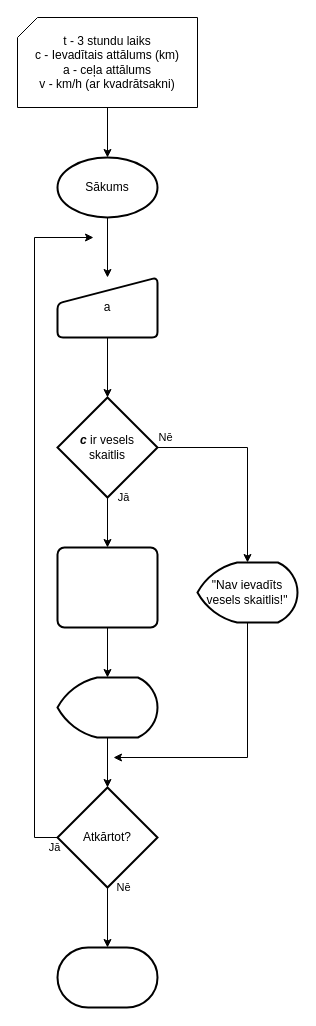
This 316x1026 diagram has some shape labels left out. Here are the shapes that lost their labels. From the top down, the box of each, then its label:
(56, 546, 158, 628): c = kvadrātsakne (a^2/2) v = a/t (km/h)
(56, 676, 158, 738): c, v
(56, 946, 158, 1008): Beigas
